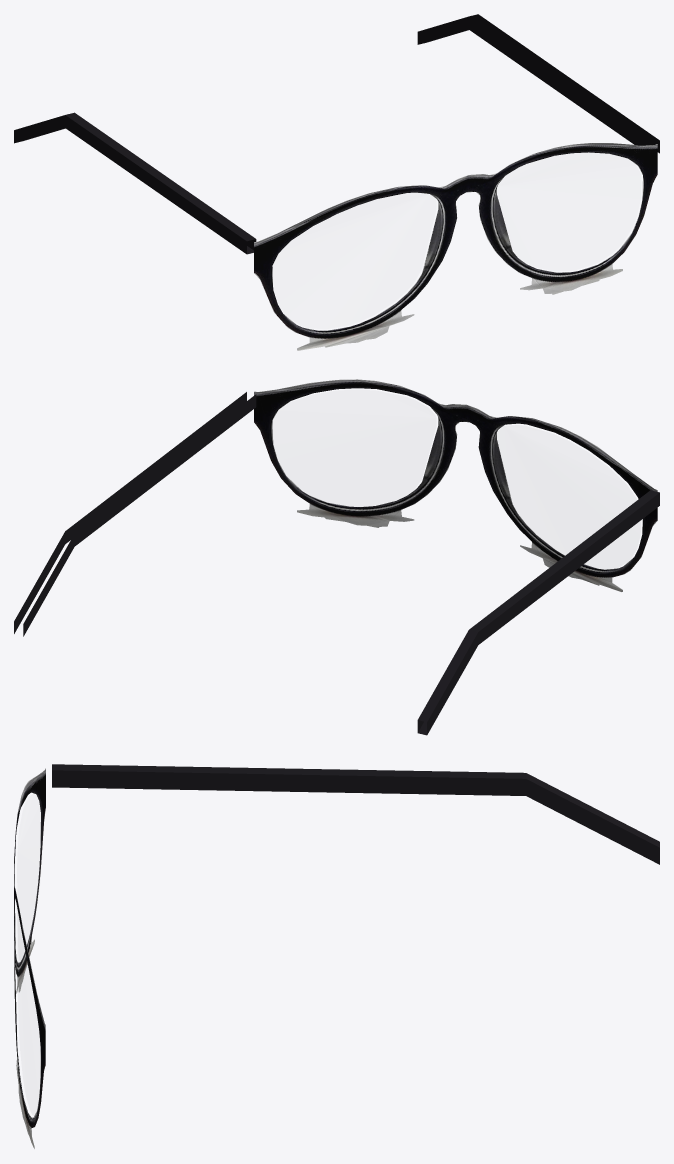
Rendered from gothamstyle-249_black.glb.
3 views of the same model, one above another, from view 1: azimuth 30°, elevation 25°; view 2: azimuth 150°, elevation 25°; view 3: azimuth 270°, elevation 25° (orthographic). The views are drawn at different scales.
Visible parts, largest first — view 1: frame_front, temple_viewer_left, temple_viewer_right; view 2: frame_front, temple_viewer_left, temple_viewer_right; view 3: temple_viewer_left, frame_front.
Boxes of the visible parts, box(x1,y1,x2,y2) form: frame_front: box(254, 143, 657, 350); temple_viewer_left: box(14, 112, 256, 254); temple_viewer_right: box(417, 14, 659, 153); frame_front: box(254, 379, 657, 591); temple_viewer_left: box(417, 490, 659, 735); temple_viewer_right: box(14, 392, 256, 636); temple_viewer_left: box(52, 764, 659, 864); frame_front: box(14, 768, 45, 1148).
Bounding box in the file's own units: 0.1311 × 0.0449 × 0.136.
Materials: 3 (2 with a texture image).
